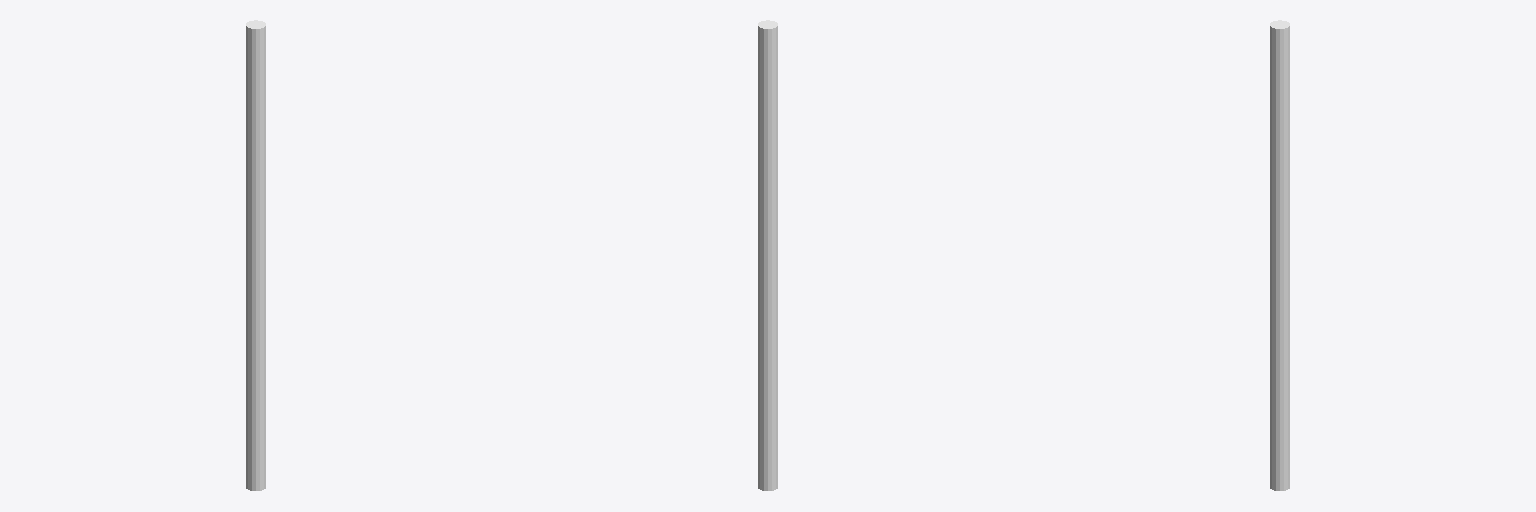
robot.urdf — obs:
<?xml version="1.0" ?>
<robot name="obs">
  <link name="obs_Link">
    <inertial>
      <origin rpy="0 0 0" xyz="0 0 0"/>
       <mass value=".0"/>
       <inertia ixx="0" ixy="0" ixz="0" iyy="0" iyz="0" izz="0"/>
    </inertial>
    <visual>
      <origin rpy="0 0 0" xyz="0 0 0"/>
      <geometry>
	      <mesh filename="obs004.stl" scale="1 1 1"/>
      </geometry>
      <material name="white">
        <color rgba="1 1 1 1"/>
      </material>
    </visual>
  </link>
</robot>

--- Facts derived from the render (not from the file) ---
3 views of the same robot in one strip: view 1: azimuth 30°, elevation 25°; view 2: azimuth 150°, elevation 25°; view 3: azimuth 270°, elevation 25° (orthographic).
Robot: obs — 1 links, 0 joints (none); root link obs_Link; default pose: every joint at zero.
Links seen in each view (by area): view 1: obs_Link; view 2: obs_Link; view 3: obs_Link.
Link boxes in pixels (x1,y1,x2,y2): obs_Link: (246,20,265,490); obs_Link: (758,20,777,490); obs_Link: (1270,20,1289,490).
Size in the robot's own frame: 0.3956 by 0.3978 by 10 metres.
1 mesh visuals loaded from 1 distinct referenced files (1 binary STL).
